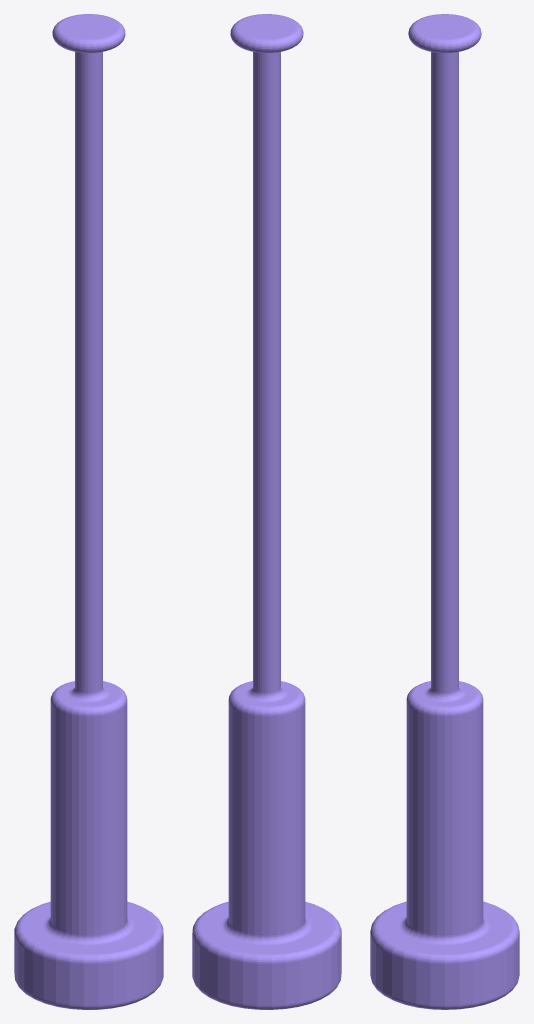
Rendered from signpost_pole_a01.glb.
3 renders of one model, left to right at view 1: azimuth 30°, elevation 25°; view 2: azimuth 150°, elevation 25°; view 3: azimuth 270°, elevation 25°, orthographic.
Parts seen in each view (by area): view 1: Cylinder.054; view 2: Cylinder.054; view 3: Cylinder.054.
Part boxes in pixels (bbox=[...]): Cylinder.054: bbox=[14, 14, 163, 1009]; Cylinder.054: bbox=[192, 14, 341, 1009]; Cylinder.054: bbox=[370, 14, 519, 1009].
Bounding box in the file's own units: 0.4967 × 3.5 × 0.4967.
